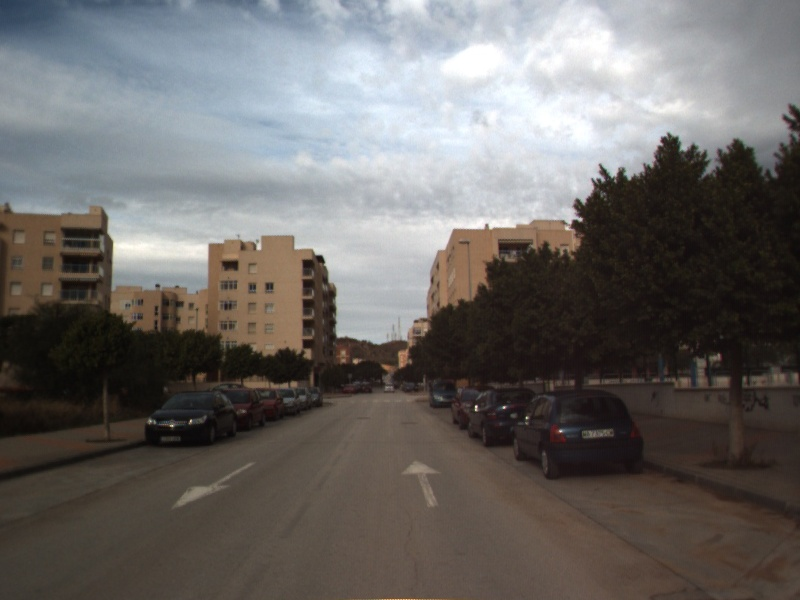STRAIGHT: (399, 458, 444, 510)
